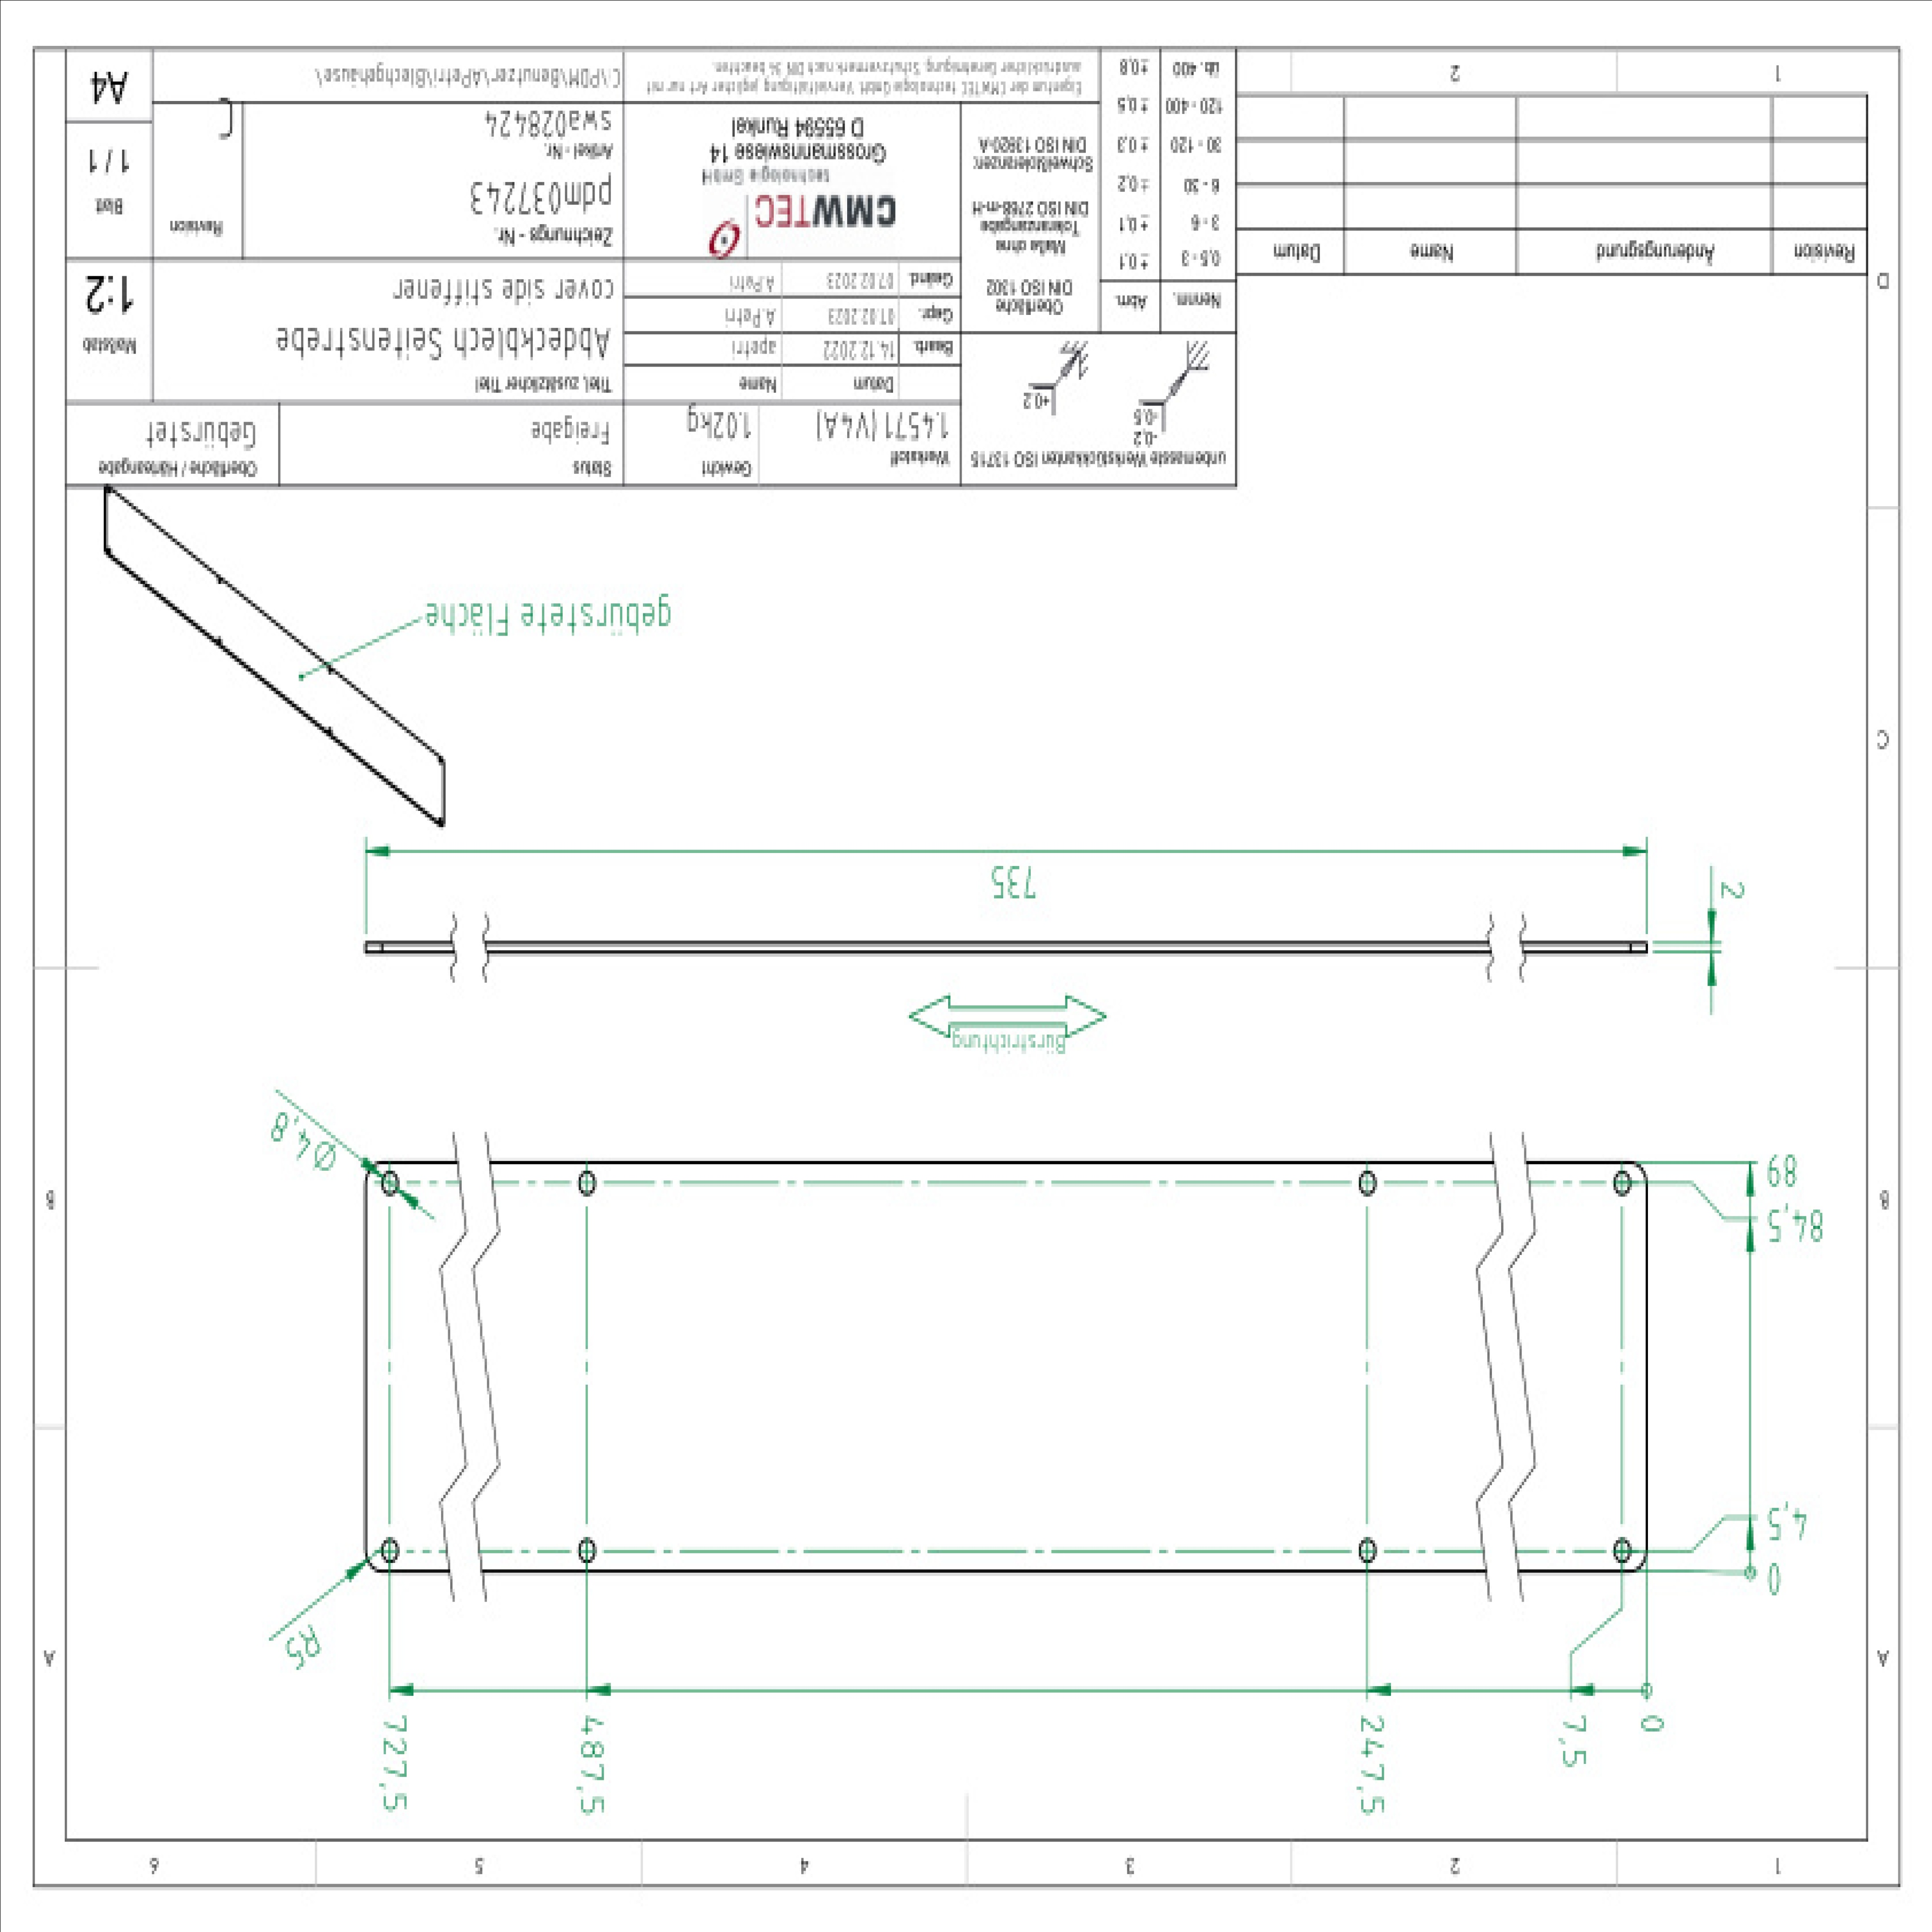InnerContour: (1355, 1168, 1380, 1200), (375, 1169, 405, 1194), (575, 1536, 598, 1566), (575, 1166, 596, 1198), (379, 1539, 402, 1566), (1357, 1536, 1378, 1564), (1612, 1534, 1631, 1564), (1612, 1169, 1631, 1196)
